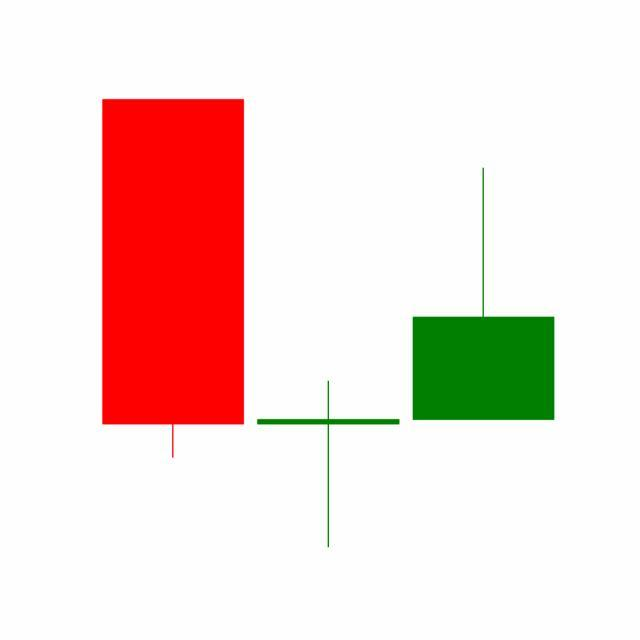Hammer: (250, 379, 407, 551)
